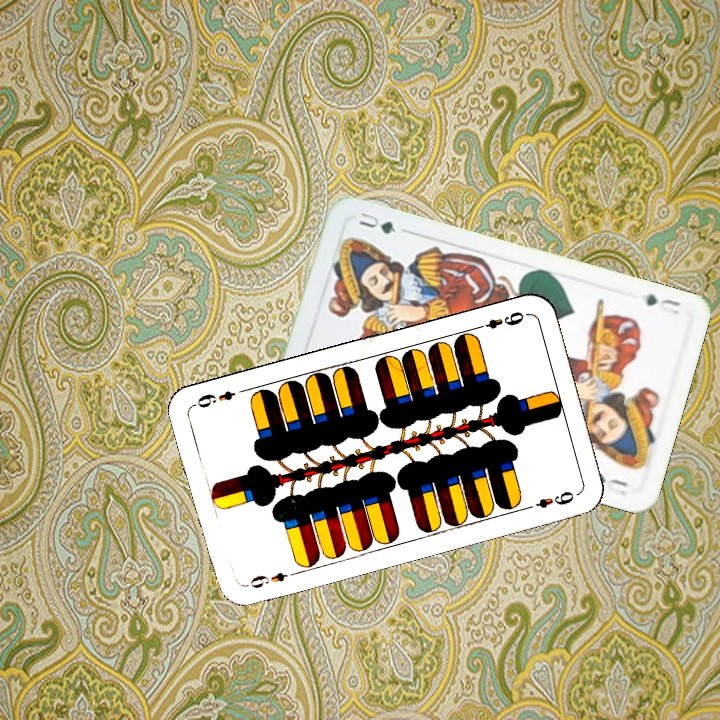E9: (471, 307, 527, 332), (241, 567, 299, 591)
GU: (641, 290, 684, 317)
